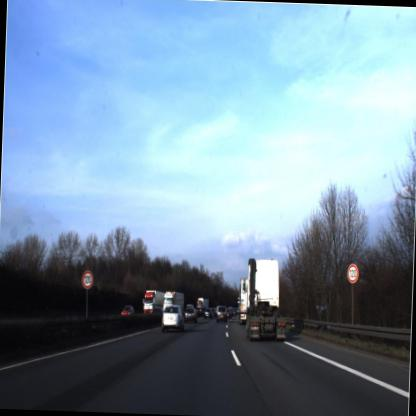prohibitory: (346, 260, 359, 287), (80, 269, 96, 290)
